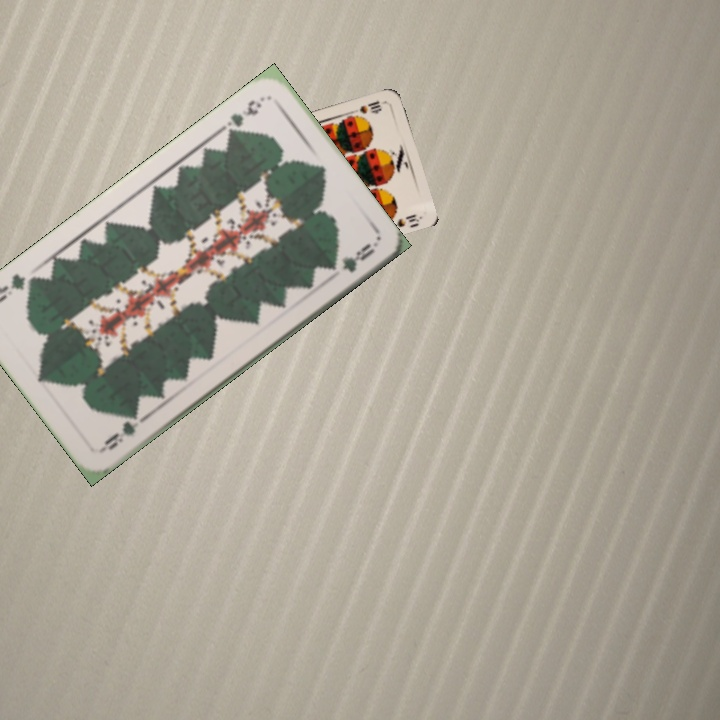G9: (216, 92, 268, 140), (96, 408, 147, 455)
S10: (350, 97, 384, 120)
